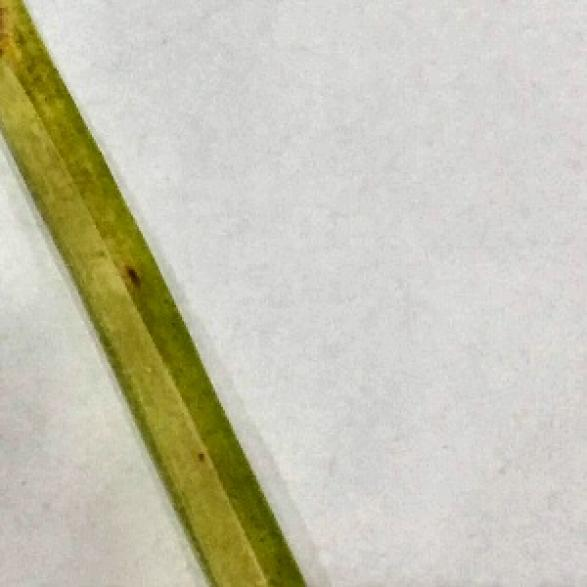Leaf_smut: (108, 251, 151, 313)
